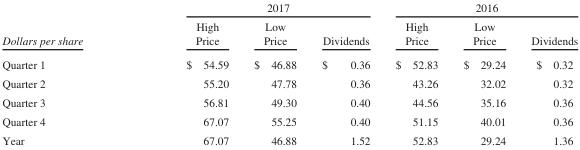table: (1, 1, 577, 146)
table column: (1, 1, 133, 146), (133, 1, 240, 146), (308, 1, 382, 146), (240, 1, 308, 146), (382, 1, 450, 146), (450, 1, 517, 146), (517, 1, 577, 146)
table column header: (1, 1, 577, 52)
table row: (1, 17, 577, 52), (1, 52, 577, 73), (1, 73, 577, 92), (1, 92, 577, 111), (1, 111, 577, 130), (1, 1, 577, 17), (1, 130, 577, 146)
table spanning cell: (1, 1, 133, 52), (133, 1, 382, 17), (382, 1, 577, 17)
